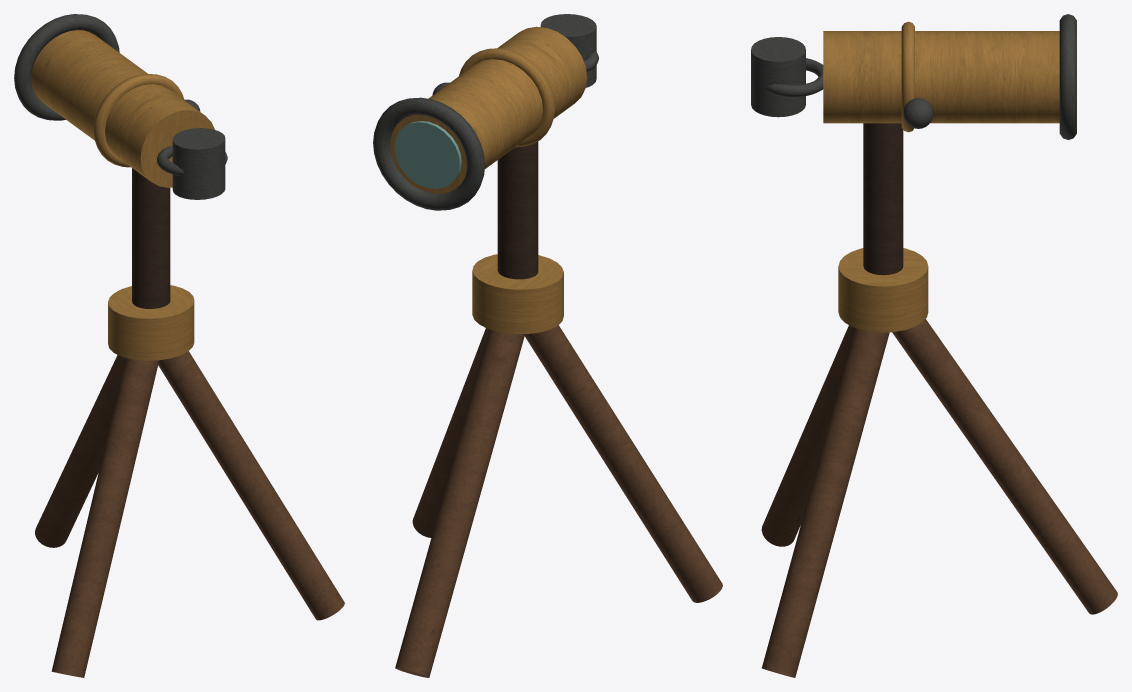
Rendered from telescope.glb.
3 views of the same model, side by side, from view 1: azimuth 30°, elevation 25°; view 2: azimuth 150°, elevation 25°; view 3: azimuth 270°, elevation 25° (orthographic). The views are drawn at different scales.
Parts seen in each view (by area): view 1: telescope; view 2: telescope; view 3: telescope.
Boxes of the visible parts, x1=… form: telescope: x1=14, y1=14, x2=344, y2=677; telescope: x1=373, y1=14, x2=722, y2=677; telescope: x1=751, y1=14, x2=1117, y2=677.
Bounding box in the file's own units: 0.9 × 1.6 × 0.9.
Materials: 1 (1 with a texture image).
